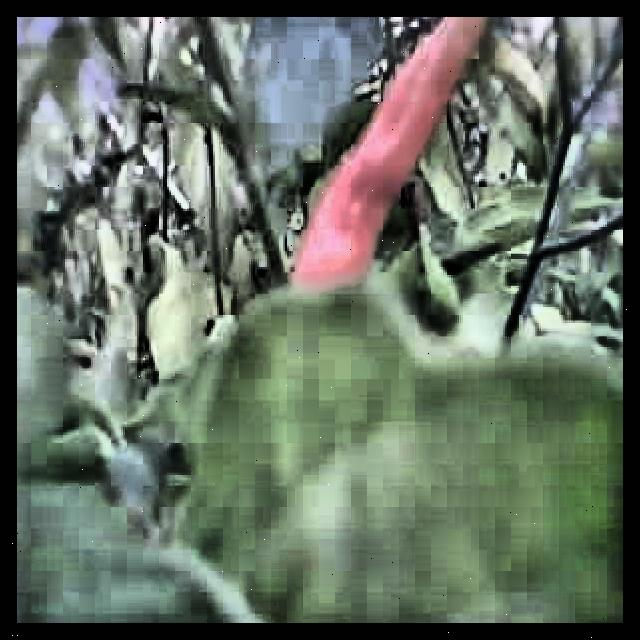Cabai: (301, 17, 481, 278)
